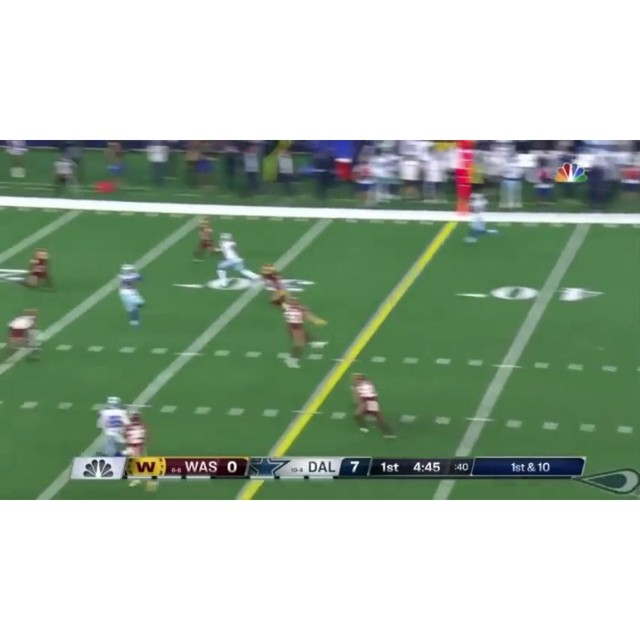american-football-player: (278, 295, 326, 369), (350, 373, 396, 443), (122, 410, 151, 488), (214, 232, 255, 287), (94, 396, 130, 458), (115, 262, 148, 328), (5, 307, 44, 358), (254, 262, 289, 308), (464, 192, 493, 245), (25, 247, 56, 292), (191, 215, 219, 264)
